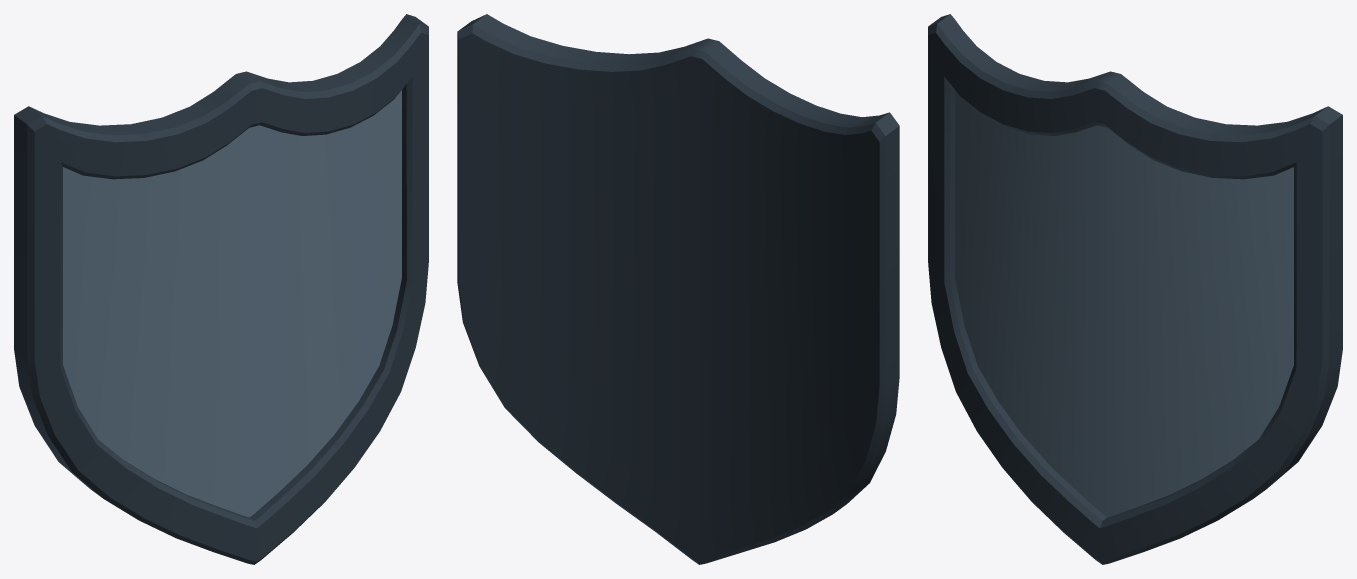
File: shield.fbx
3 renders of one model, left to right at view 1: azimuth 30°, elevation 25°; view 2: azimuth 150°, elevation 25°; view 3: azimuth 330°, elevation 25°, orthographic. The views are drawn at different scales.
Parts seen in each view (by area): view 1: shield; view 2: shield; view 3: shield.
Part boxes in pixels (x1,y1,x2,y2): shield: [14, 14, 428, 564]; shield: [457, 14, 899, 564]; shield: [928, 14, 1342, 564].
Size of the model in its own units: 1.24 by 1.42 by 0.2363.
1 material, 1 textured.
